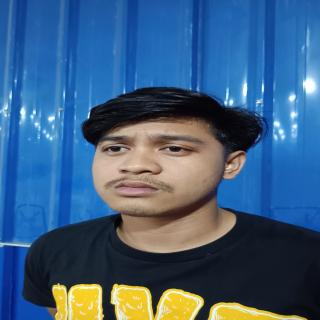Takut: (87, 113, 227, 218)
